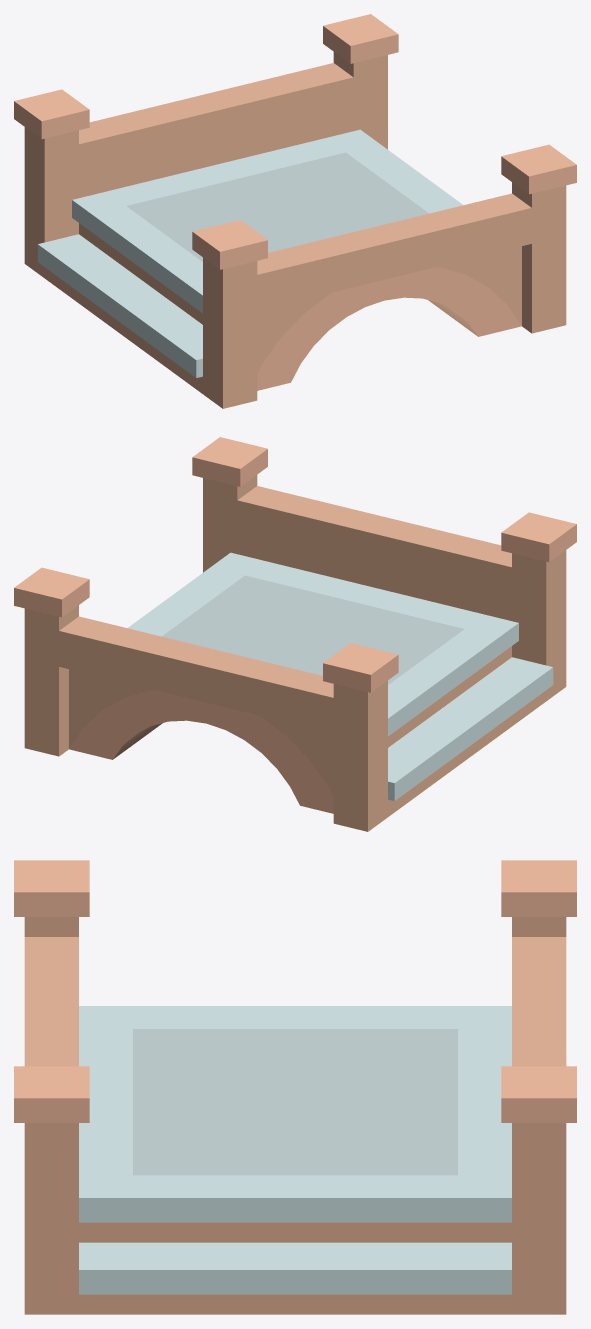
Rendered from bridge_woodRound.gltf.
3 views of the same model, one above another, from view 1: azimuth 30°, elevation 25°; view 2: azimuth 150°, elevation 25°; view 3: azimuth 270°, elevation 25° (orthographic). The views are drawn at different scales.
Parts seen in each view (by area): view 1: bridge_woodRound; view 2: bridge_woodRound; view 3: bridge_woodRound.
Boxes of the visible parts, x1,y1,x2,y2 form: bridge_woodRound: (14,14,576,408); bridge_woodRound: (14,437,576,831); bridge_woodRound: (14,860,576,1314).
Bounding box in the file's own units: 1.04 × 0.45 × 1.04.
